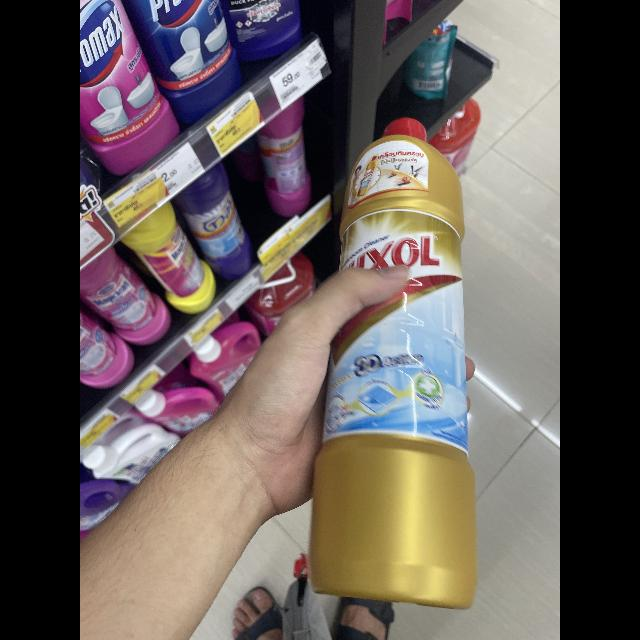chemical_plastic_bottle: (293, 113, 489, 614)
